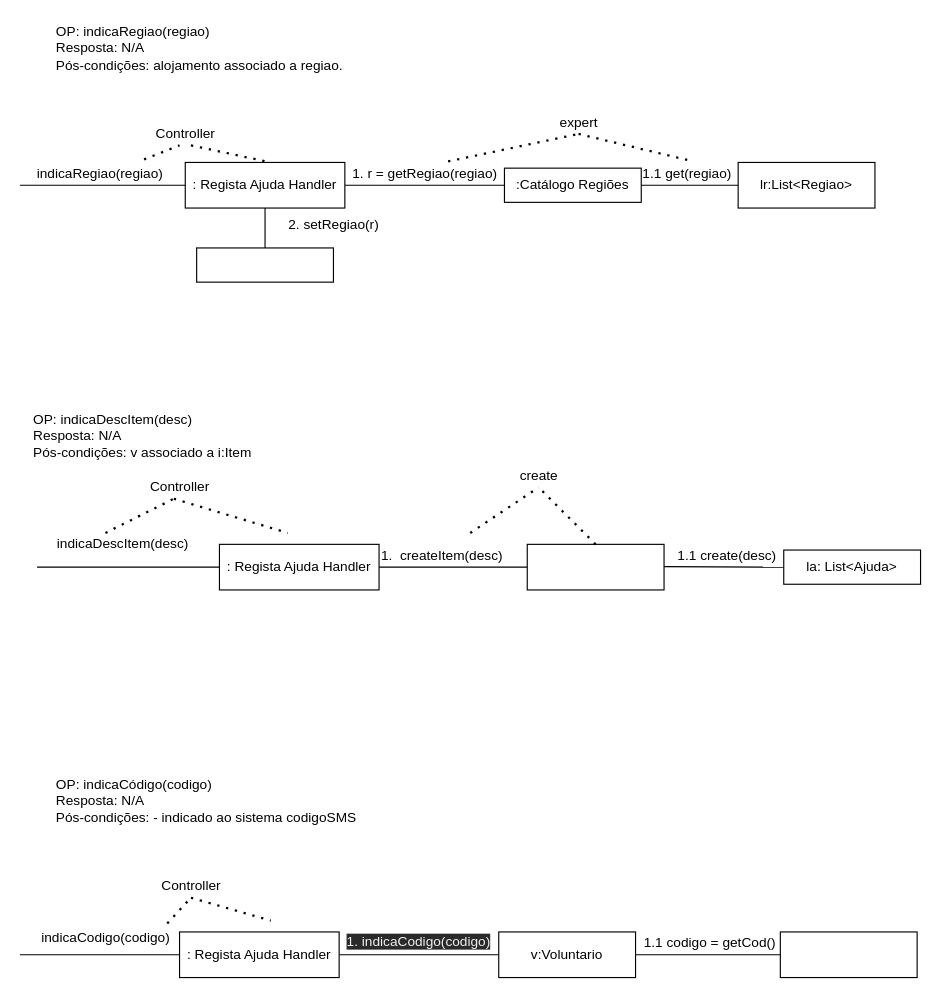
Image size: 941x998. Some labels were removed from this diagram. Here are the shapes that lost their labels. From the top down, the centre of each, then its label:
the point at 264,264: a:Alojamento
the point at 595,566: :Catálogo Ajuda
the point at 848,954: codigoSMS:int
